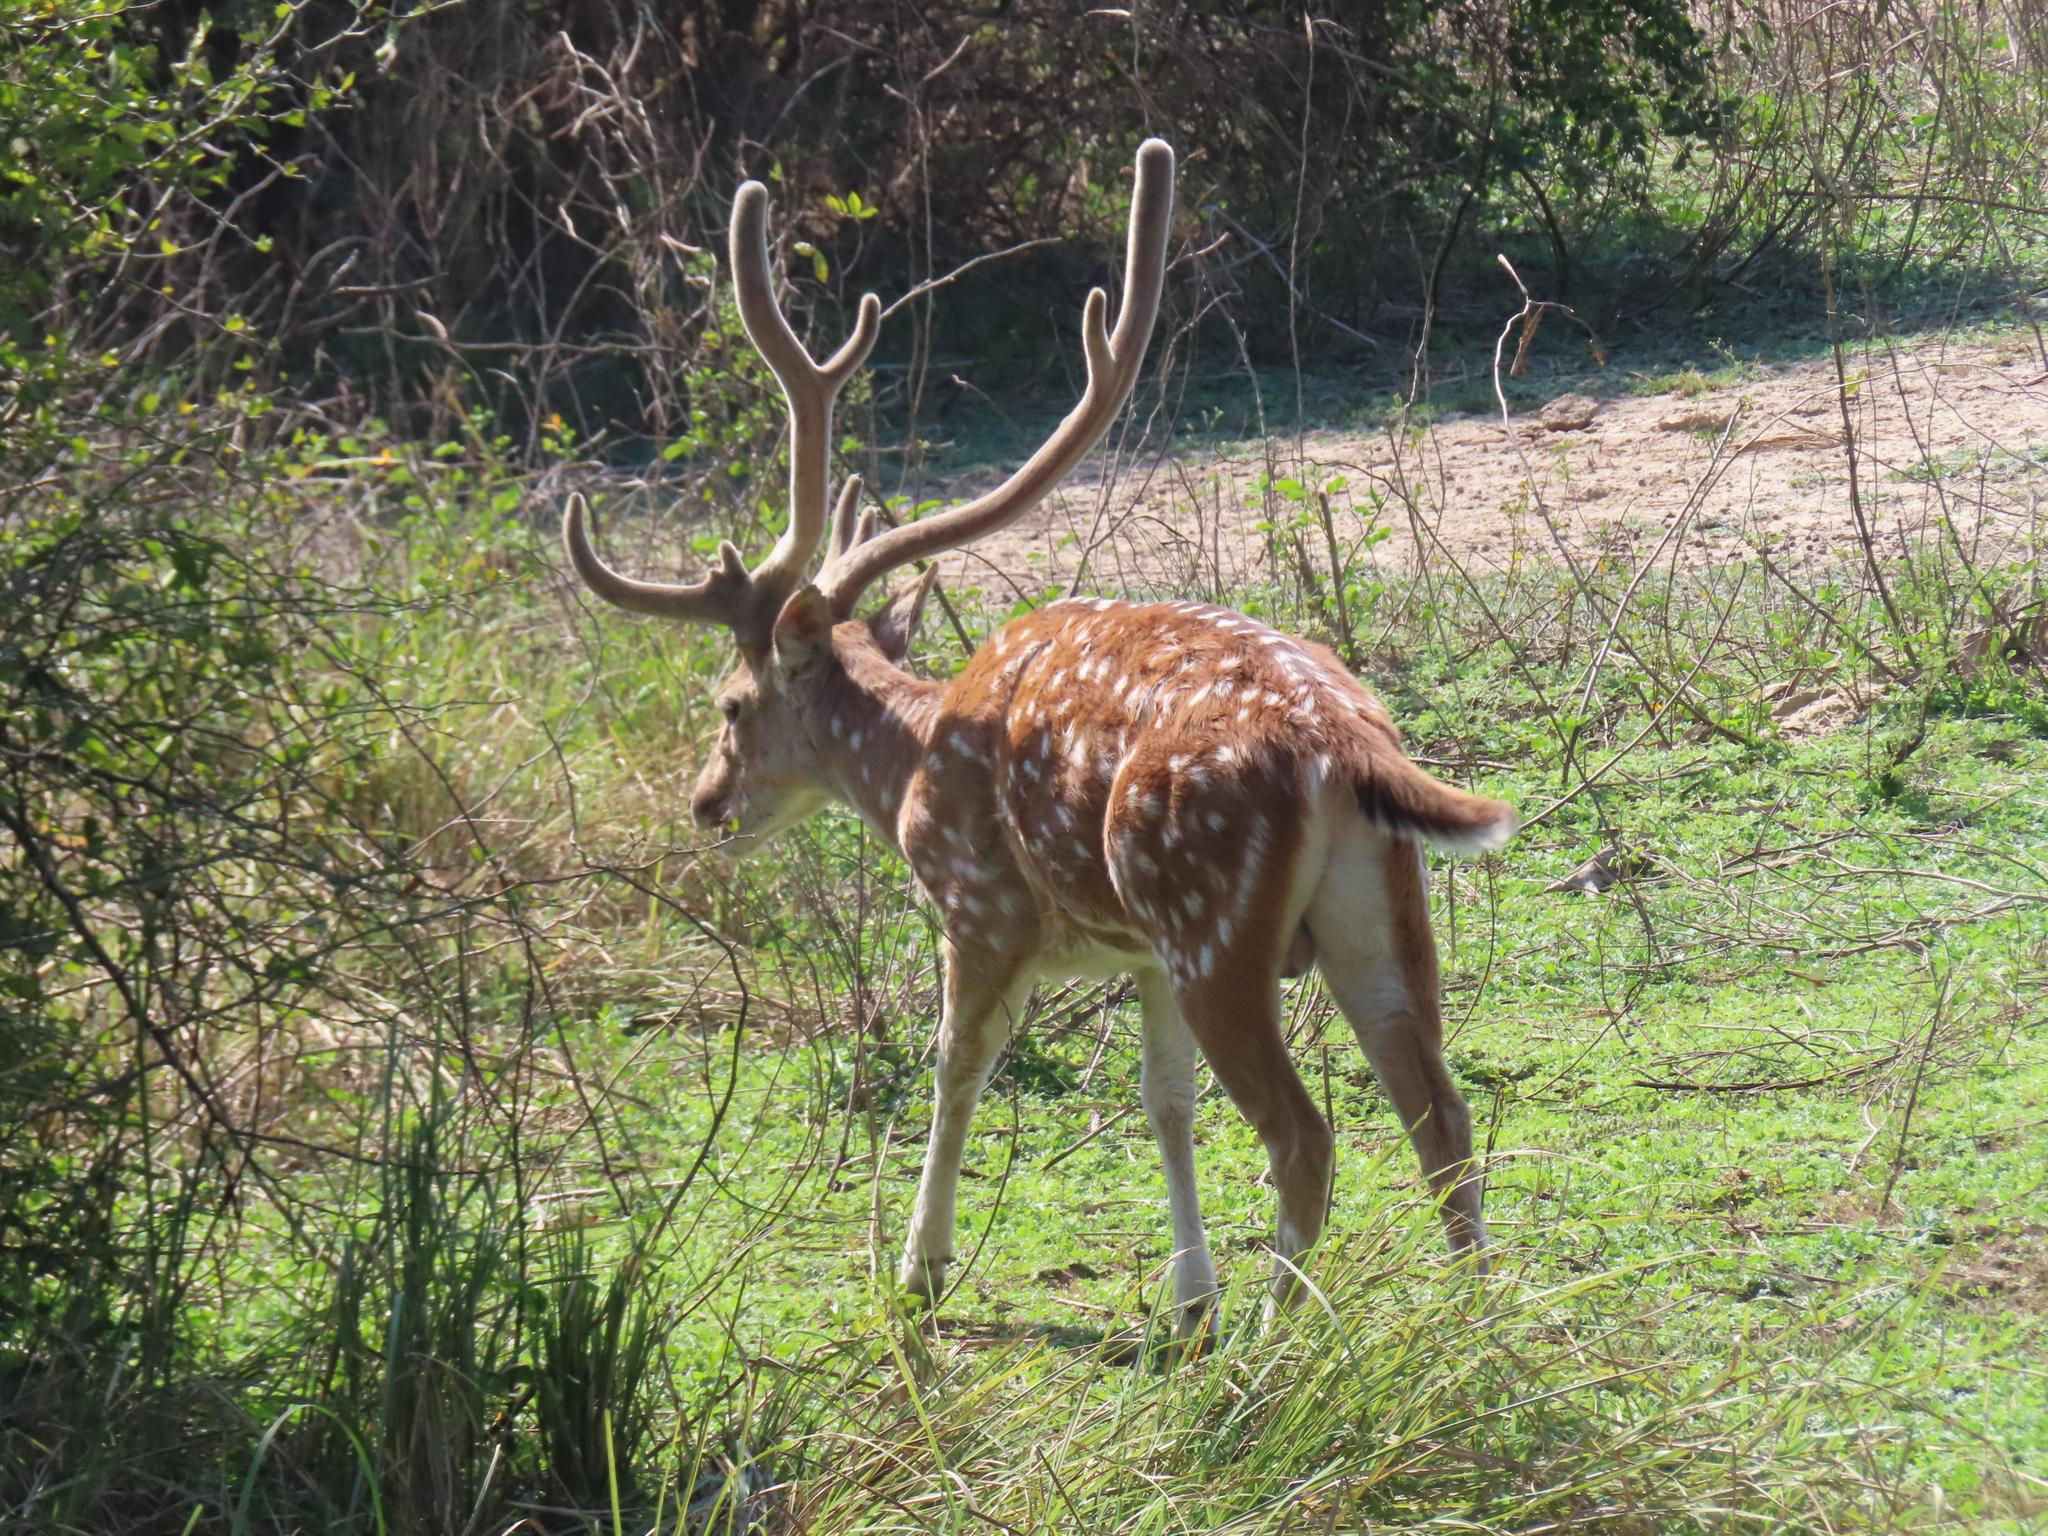Deer: (563, 139, 1516, 1338)
